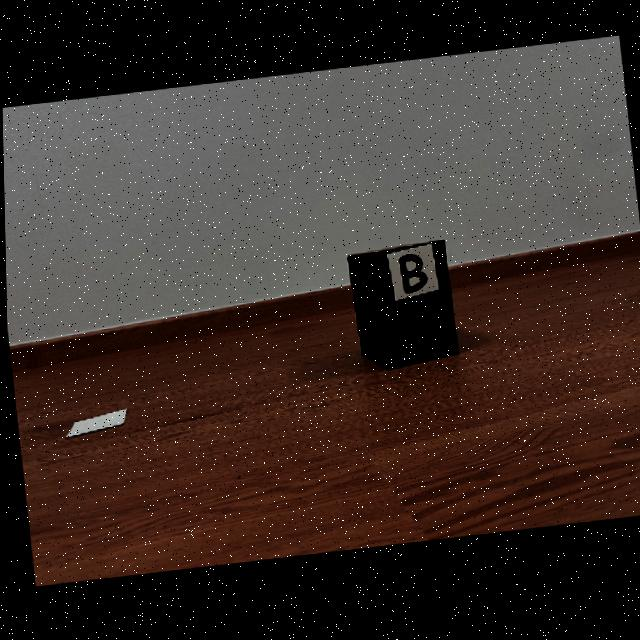B: (397, 256, 425, 296)
